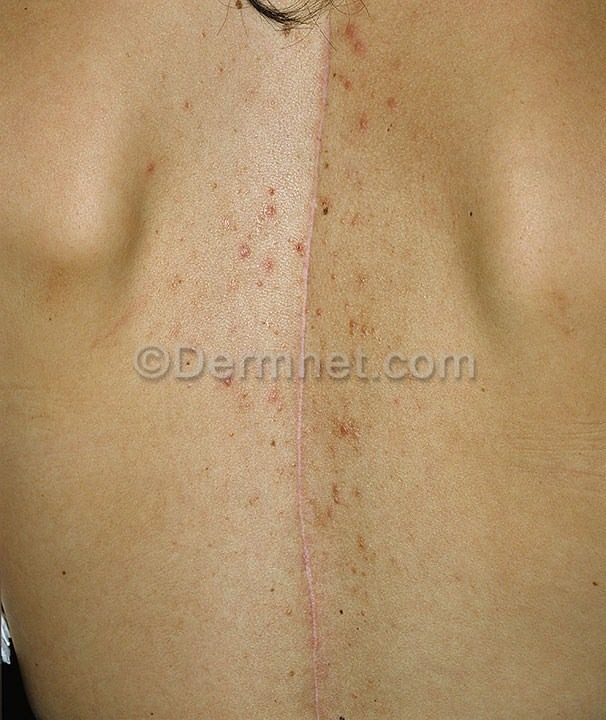Acne: (199, 22, 403, 698)
